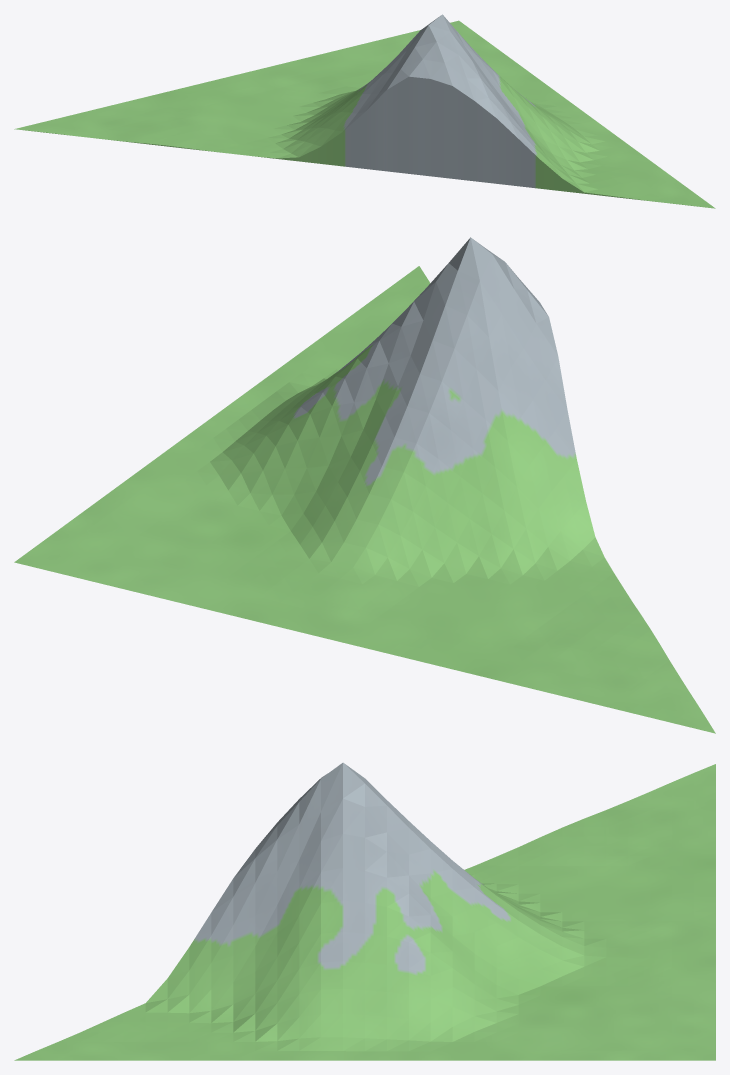
The model's file is Grass_RockyMountains_03_SE.obj.
3 renders of one model, top to bottom at view 1: azimuth 30°, elevation 25°; view 2: azimuth 150°, elevation 25°; view 3: azimuth 270°, elevation 25°, orthographic. The views are drawn at different scales.
Bounding box in the file's own units: 10 × 3.08 × 10.
1 material, 1 textured.
